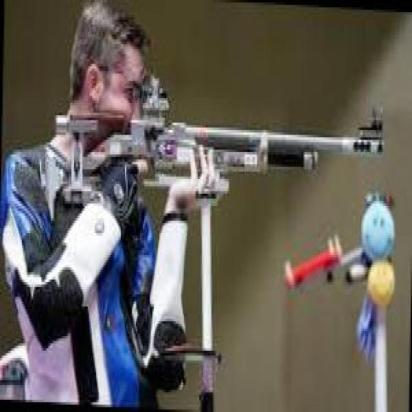Gun: (56, 98, 391, 211)
